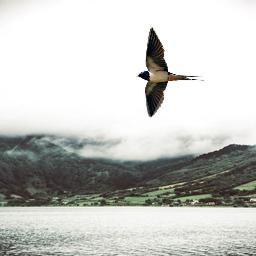Swallow: (136, 26, 205, 120)
